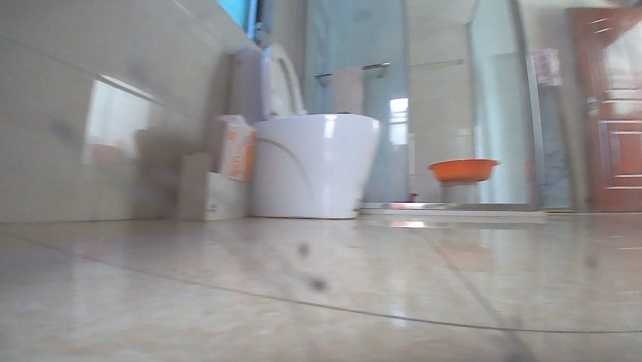door_anno: (565, 4, 641, 211)
toilet: (224, 38, 385, 220)
